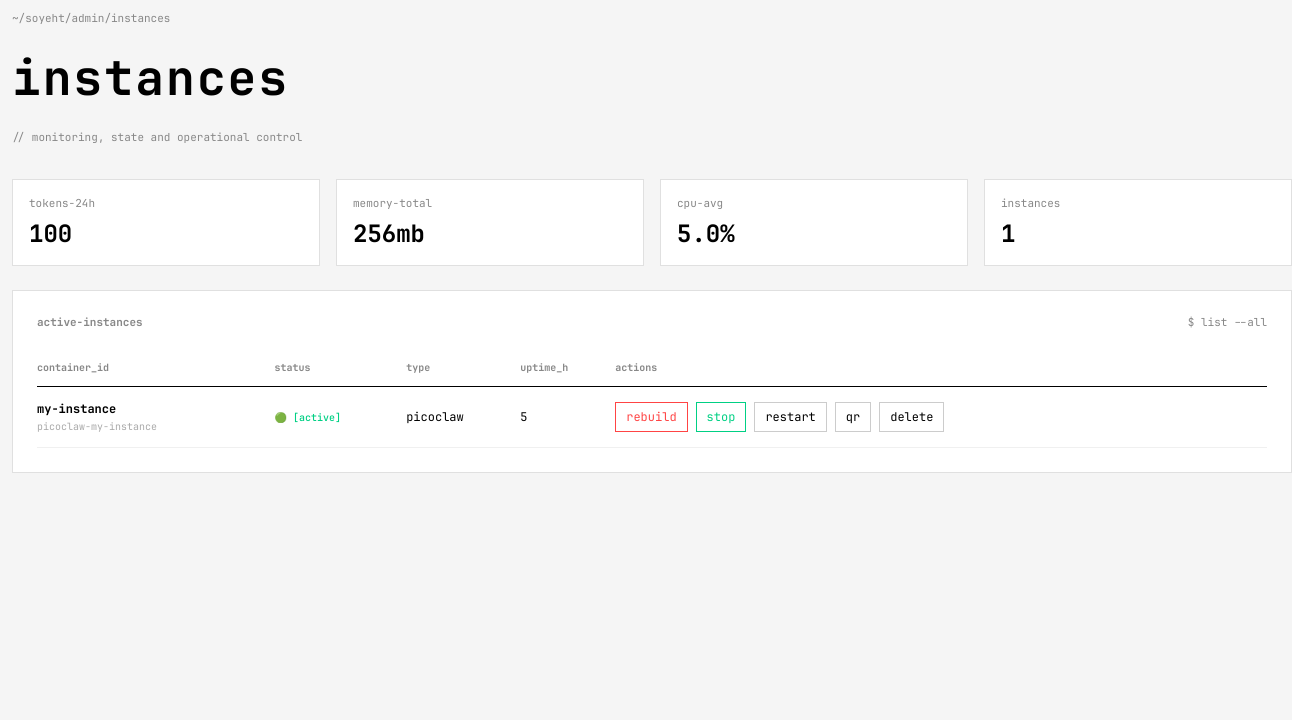
it: InstancesPage › shows error and re-enables buttons when action fails
Check: the text "picoclaw-my-instance" is shown, box [37,420,157,433]
Click the button "restart" at (791, 417), box [754,402,827,432]
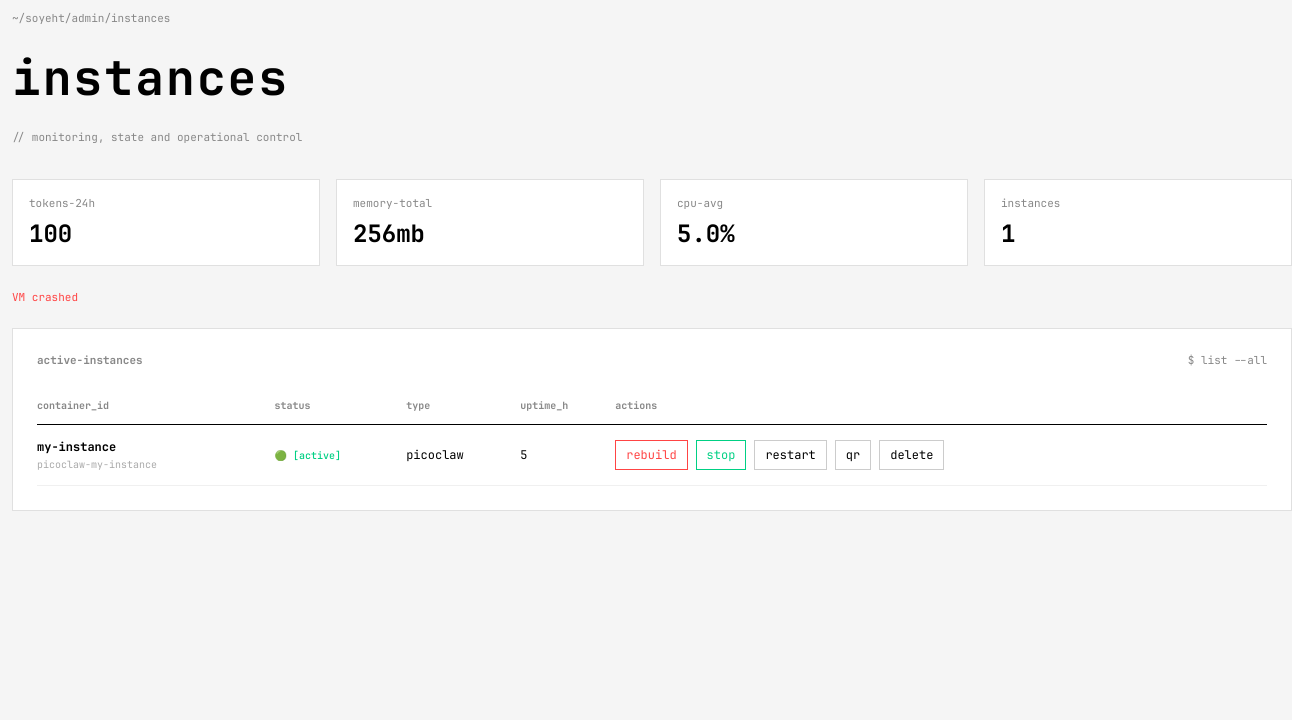
Check: the button "restart" is enabled, box [754,440,827,470]
Check: the text "VM crashed" is shown, box [12,290,78,304]
